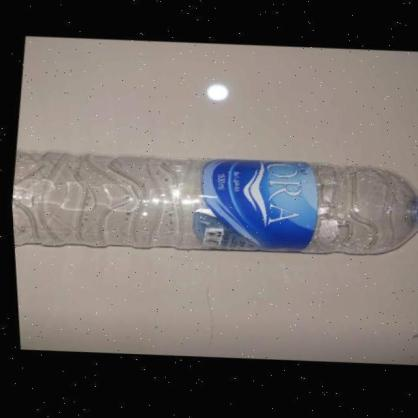bottle: (14, 148, 418, 262)
label: (199, 156, 325, 256)
